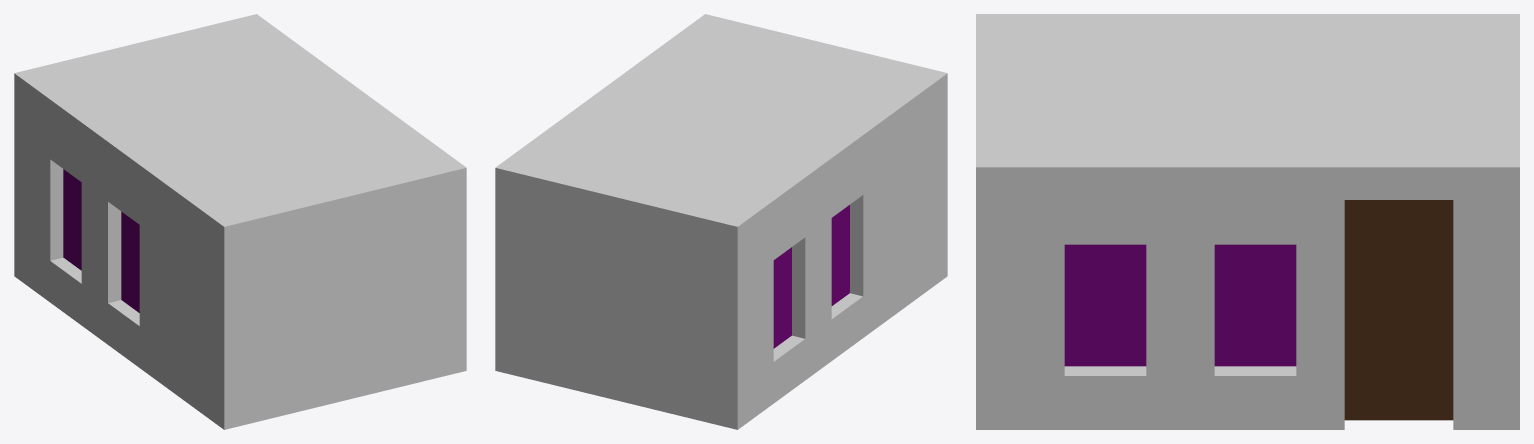
Rendered from medrect_bot_1.fbx.
The picture shows the model from 3 angles, left to right: view 1: azimuth 30°, elevation 25°; view 2: azimuth 150°, elevation 25°; view 3: azimuth 270°, elevation 25°; orthographic projection. The views are drawn at different scales.
Parts seen in each view (by area): view 1: medrect_bot_1.001; view 2: medrect_bot_1.001; view 3: medrect_bot_1.001.
Boxes of the visible parts, x1=… form: medrect_bot_1.001: x1=14, y1=14, x2=466, y2=429; medrect_bot_1.001: x1=495, y1=14, x2=947, y2=429; medrect_bot_1.001: x1=976, y1=14, x2=1519, y2=429.
Bounding box in the file's own units: 500 × 400 × 750.
